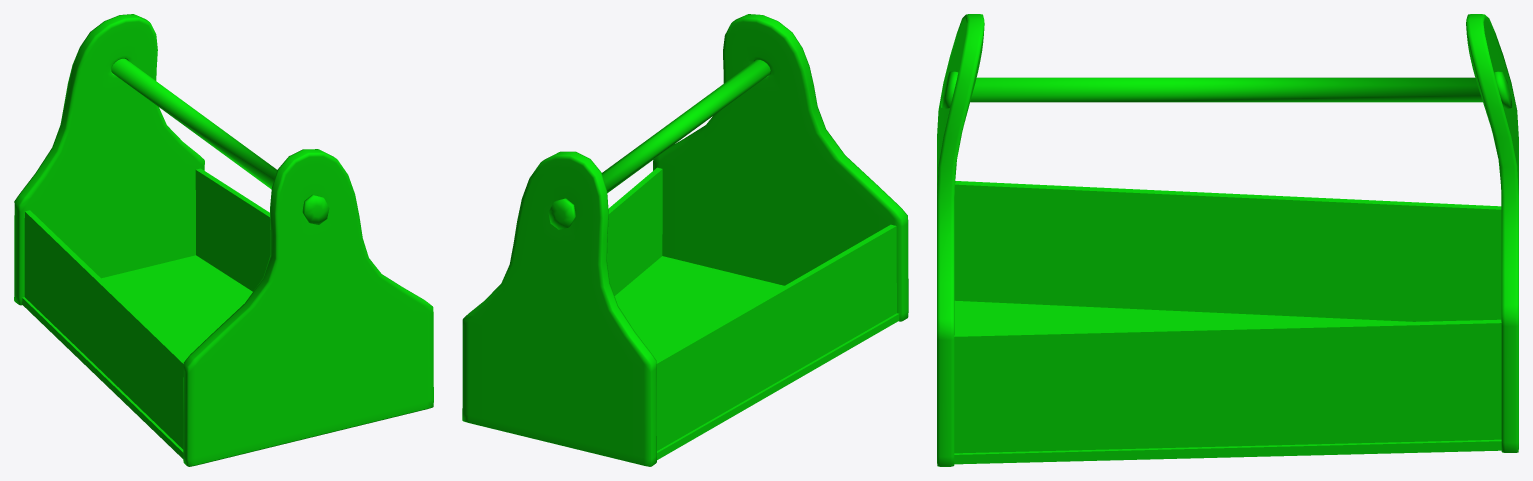
Rendered from Toolbox_msh.fbx.
The picture shows the model from 3 angles, left to right: view 1: azimuth 30°, elevation 25°; view 2: azimuth 150°, elevation 25°; view 3: azimuth 270°, elevation 25°; orthographic projection. The views are drawn at different scales.
Visible parts, largest first — view 1: toolbox_msh; view 2: toolbox_msh; view 3: toolbox_msh.
Part boxes in pixels (bbox=[...]): toolbox_msh: bbox=[14, 14, 433, 466]; toolbox_msh: bbox=[462, 14, 908, 466]; toolbox_msh: bbox=[937, 14, 1518, 466].
Bounding box in the file's own units: 75.2 × 79.75 × 113.
